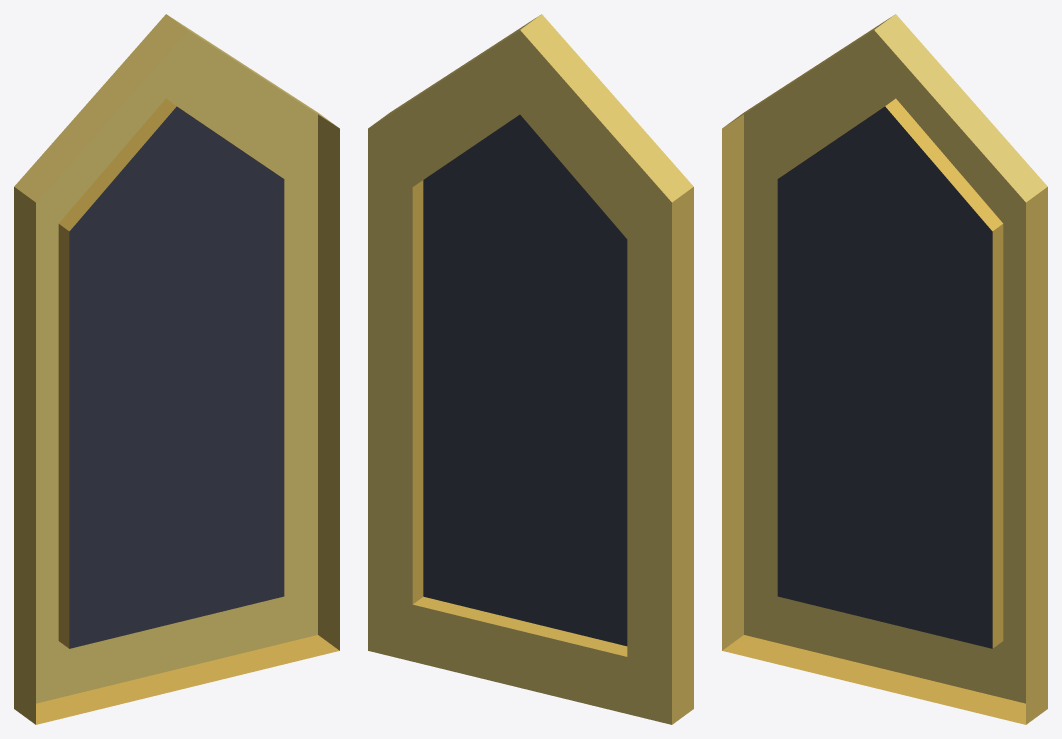
The model's file is squidgame_props_platform_decoration2_yellow.fbx.
3 renders of one model, left to right at view 1: azimuth 30°, elevation 25°; view 2: azimuth 150°, elevation 25°; view 3: azimuth 330°, elevation 25°, orthographic.
Visible parts, largest first — view 1: squidgame_props_platform_decoration2_yellow; view 2: squidgame_props_platform_decoration2_yellow; view 3: squidgame_props_platform_decoration2_yellow.
Part boxes in pixels (x1,y1,x2,y2): squidgame_props_platform_decoration2_yellow: [14, 14, 339, 724]; squidgame_props_platform_decoration2_yellow: [368, 14, 693, 724]; squidgame_props_platform_decoration2_yellow: [722, 14, 1047, 724].
Size of the model in its own units: 0.8875 by 1.84 by 0.1104.
